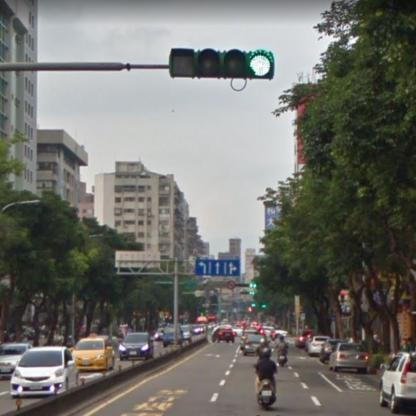Green Light: (168, 46, 276, 78)
